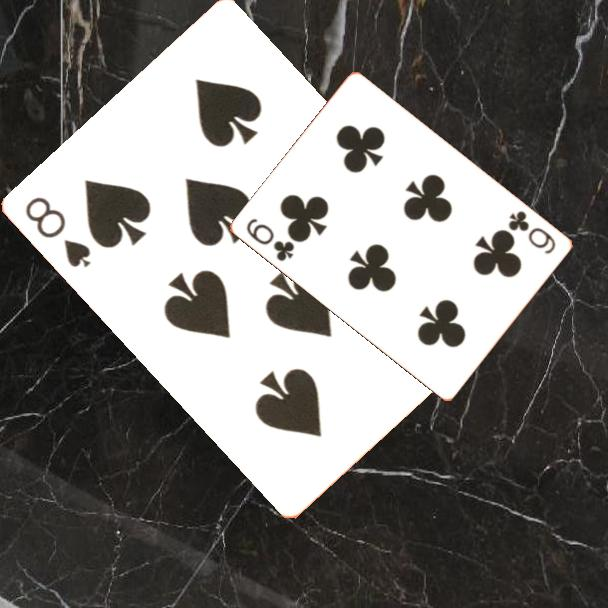c06: (505, 207, 559, 257), (243, 215, 298, 264)
s08: (22, 193, 95, 271)
